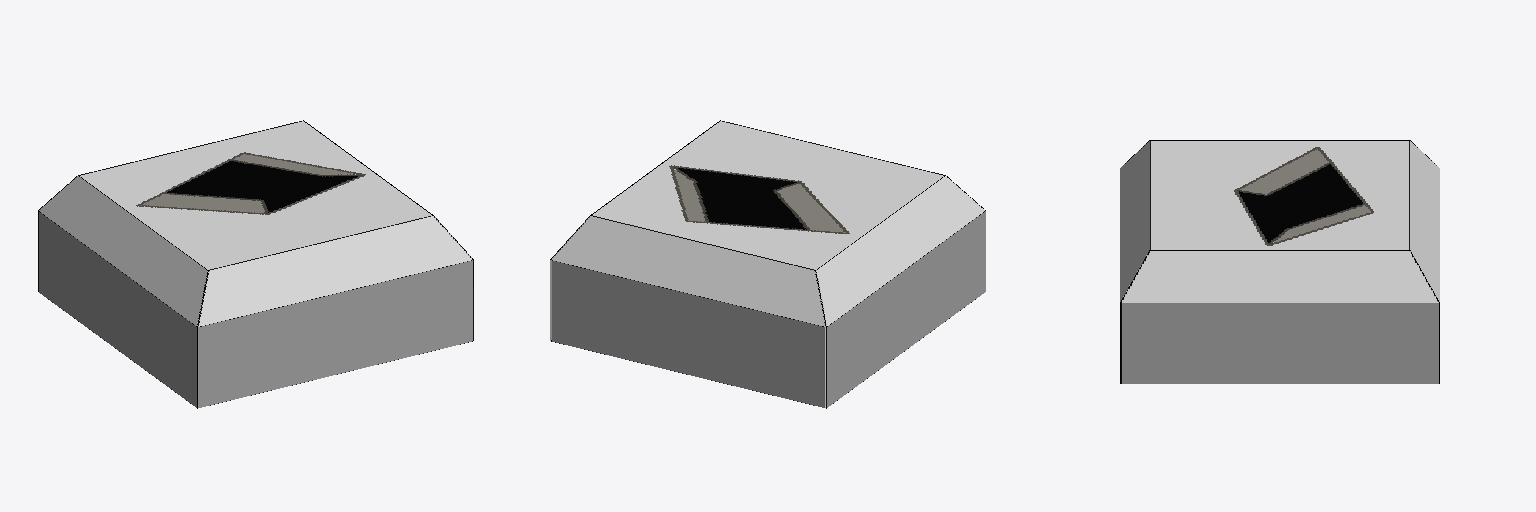
3 views of the same model, side by side, from view 1: azimuth 30°, elevation 25°; view 2: azimuth 150°, elevation 25°; view 3: azimuth 270°, elevation 25° (orthographic).
Parts seen in each view (by area): view 1: Cube; view 2: Cube; view 3: Cube.
Boxes of the visible parts, box(x1,y1,x2,y2) form: Cube: box(38, 120, 473, 408); Cube: box(550, 120, 985, 408); Cube: box(1120, 140, 1439, 383).
Bounding box in the file's own units: 2 × 0.8355 × 2.
1 materials, 1 textured.